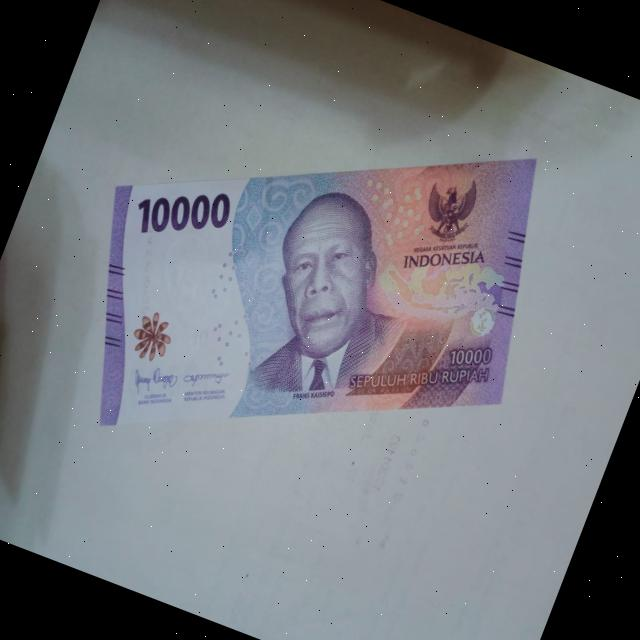10K: (28, 18, 596, 564)
